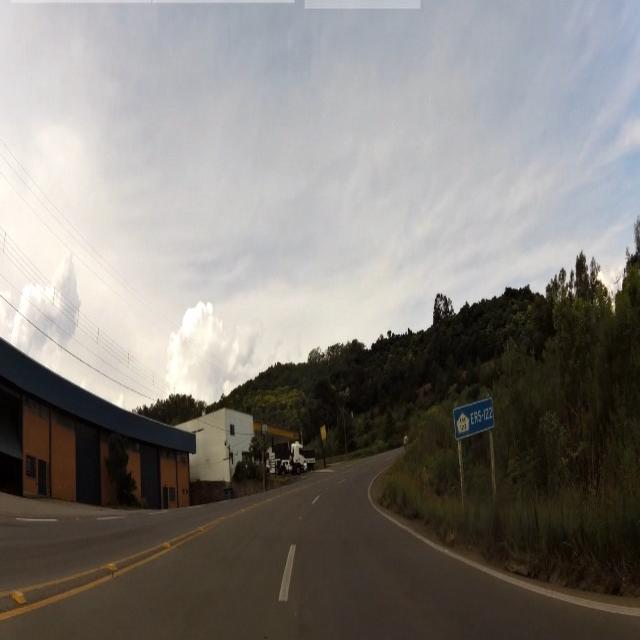LOC-6: (452, 402, 495, 436)
